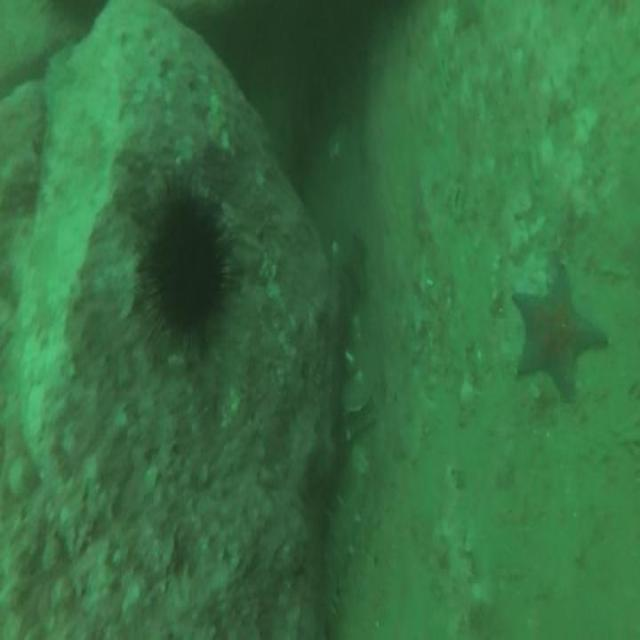echinus: (148, 207, 224, 338)
holothurian: (325, 490, 359, 611)
starfish: (514, 265, 606, 403)
